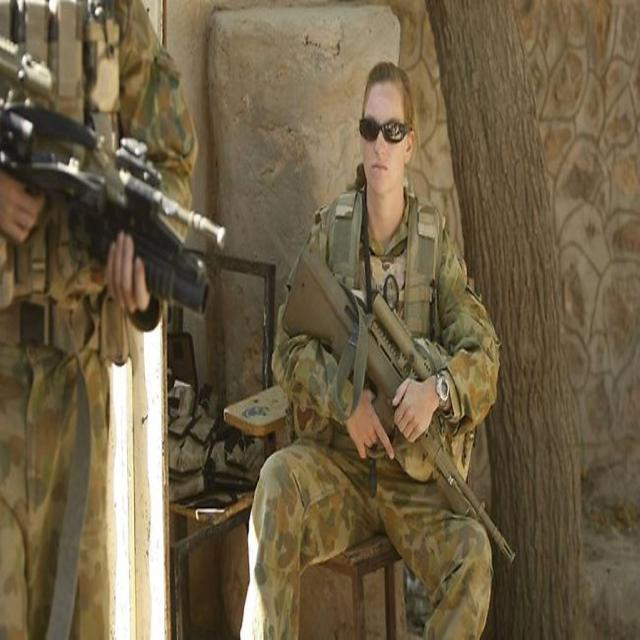Face: (362, 83, 413, 191)
